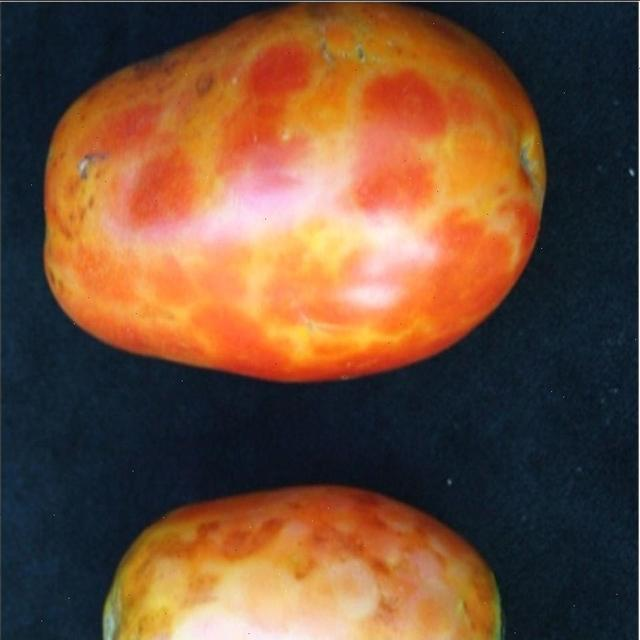Spotted wilt Virus Fruit: (195, 102, 337, 375)
